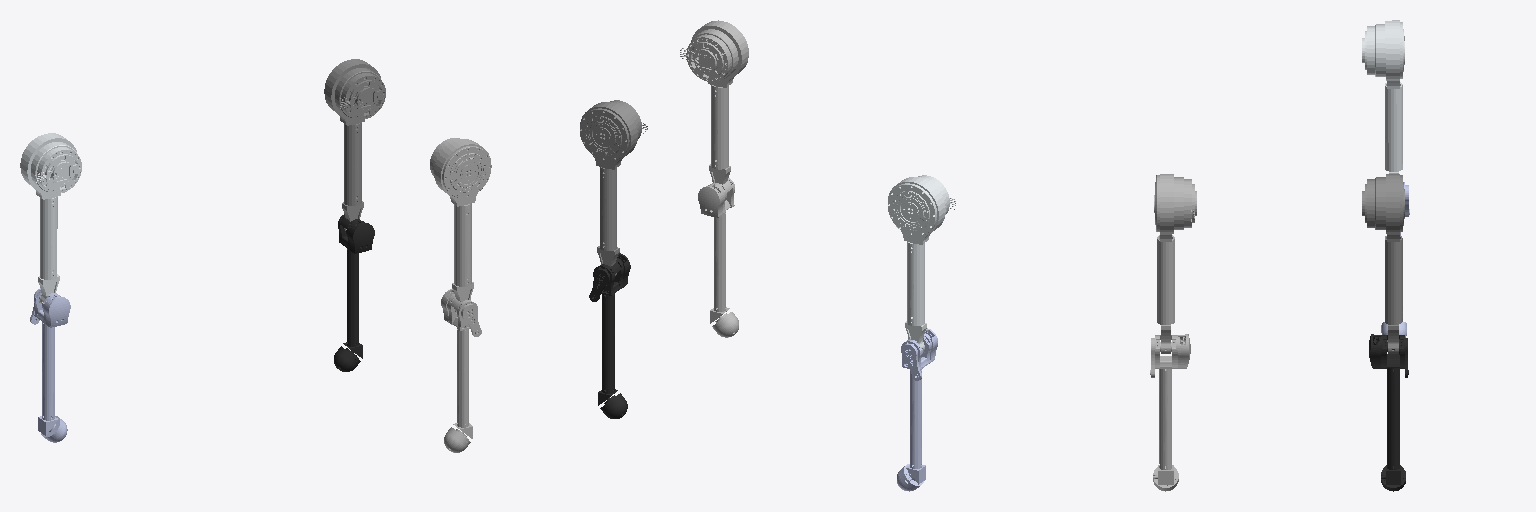
URDF robot description (PONGBOT_Q_V2):
<robot
  name="PONGBOT_Q_V2">
  <link
    name="REAR_BODY">
    <inertial>
      <origin
        xyz="0.1216 0.0026 0.0201"
        rpy="0 0 0" />
      <mass
        value="7.7996" />
      <inertia
        ixx="0.0745"
        ixy="0.0038"
        ixz="-0.0097"
        iyy="0.1354"
        iyz="-0.0014"
        izz="0.1812" />
    </inertial>
    <visual>
      <origin
        xyz="0 0 0"
        rpy="0 0 0" />
      <geometry>
        <mesh
          filename="package://PONGBOT_Q_V2/meshes/REAR_BODY.STL" />
      </geometry>
      <material
        name="">
        <color
          rgba="0.79216 0.81961 0.93333 1" />
      </material>
    </visual>
    <collision>
      <origin
        xyz="0 0 0"
        rpy="0 0 0" />
      <geometry>
        <mesh
          filename="package://PONGBOT_Q_V2/meshes/REAR_BODY.STL" />
      </geometry>
    </collision>
  </link>
  <link
    name="RR_HIP">
    <inertial>
      <origin
        xyz="-0.0009 -0.0001 -0.0002"
        rpy="0 0 0" />
      <mass
        value="1.1163" />
      <inertia
        ixx="0.0011"
        ixy="0"
        ixz="0"
        iyy="0.0012"
        iyz="0"
        izz="0.0012" />
    </inertial>
    <visual>
      <origin
        xyz="0 0 0"
        rpy="0 0 0" />
      <geometry>
        <mesh
          filename="package://PONGBOT_Q_V2/meshes/RR_HIP.STL" />
      </geometry>
      <material
        name="">
        <color
          rgba="0.75294 0.75294 0.75294 1" />
      </material>
    </visual>
    <collision>
      <origin
        xyz="0 0 0"
        rpy="0 0 0" />
      <geometry>
        <mesh
          filename="package://PONGBOT_Q_V2/meshes/RR_HIP.STL" />
      </geometry>
    </collision>
  </link>
  <joint
    name="RR_HIP_JOINT"
    type="continuous">
    <origin
      xyz="0 -0.11502 -0.00031465"
      rpy="9.8608E-32 -1.0675E-30 0" />
    <parent
      link="REAR_BODY" />
    <child
      link="RR_HIP" />
    <axis
      xyz="1 0 0" />
  </joint>
  <link
    name="RR_THIGH">
    <inertial>
      <origin
        xyz="0 0.0163 -0.0263"
        rpy="0 0 0" />
      <mass
        value="1.8748" />
      <inertia
        ixx="0.0112"
        ixy="0"
        ixz="0"
        iyy="0.0117"
        iyz="0.0008"
        izz="0.0017" />
    </inertial>
    <visual>
      <origin
        xyz="0 0 0"
        rpy="0 0 0" />
      <geometry>
        <mesh
          filename="package://PONGBOT_Q_V2/meshes/RR_THIGH.STL" />
      </geometry>
      <material
        name="">
        <color
          rgba="0.6 0.6 0.6 1" />
      </material>
    </visual>
    <collision>
      <origin
        xyz="0 0 0"
        rpy="0 0 0" />
      <geometry>
        <mesh
          filename="package://PONGBOT_Q_V2/meshes/RR_THIGH.STL" />
      </geometry>
    </collision>
  </link>
  <joint
    name="RR_THIGH_JOINT"
    type="continuous">
    <origin
      xyz="0 -0.105 -0.00028723"
      rpy="9.8608E-32 -1.0675E-30 0" />
    <parent
      link="RR_HIP" />
    <child
      link="RR_THIGH" />
    <axis
      xyz="0 1 0" />
  </joint>
  <link
    name="RR_CALF">
    <inertial>
      <origin
        xyz="0.0012 -0.0017 -0.0897"
        rpy="0 0 0" />
      <mass
        value="0.402" />
      <inertia
        ixx="0.0052"
        ixy="0"
        ixz="-0.0002"
        iyy="0.0051"
        iyz="-0.0001"
        izz="0.0002" />
    </inertial>
    <visual>
      <origin
        xyz="0 0 0"
        rpy="0 0 0" />
      <geometry>
        <mesh
          filename="package://PONGBOT_Q_V2/meshes/RR_CALF.STL" />
      </geometry>
      <material
        name="">
        <color
          rgba="0.75294 0.75294 0.75294 1" />
      </material>
    </visual>
    <collision>
      <origin
        xyz="0 0 0"
        rpy="0 0 0" />
      <geometry>
        <mesh
          filename="package://PONGBOT_Q_V2/meshes/RR_CALF.STL" />
      </geometry>
    </collision>
  </link>
  <joint
    name="RR_CALF_JOINT"
    type="continuous">
    <origin
      xyz="0 0.00083432 -0.305"
      rpy="9.8608E-32 -1.0675E-30 0" />
    <parent
      link="RR_THIGH" />
    <child
      link="RR_CALF" />
    <axis
      xyz="0 1 0" />
  </joint>
  <link
    name="RL_HIP">
    <inertial>
      <origin
        xyz="-0.0009 0.0001 0.0002"
        rpy="0 0 0" />
      <mass
        value="1.1163" />
      <inertia
        ixx="0.0011"
        ixy="0"
        ixz="0"
        iyy="0.0012"
        iyz="0"
        izz="0.0012" />
    </inertial>
    <visual>
      <origin
        xyz="0 0 0"
        rpy="0 0 0" />
      <geometry>
        <mesh
          filename="package://PONGBOT_Q_V2/meshes/RL_HIP.STL" />
      </geometry>
      <material
        name="">
        <color
          rgba="0.75294 0.75294 0.75294 1" />
      </material>
    </visual>
    <collision>
      <origin
        xyz="0 0 0"
        rpy="0 0 0" />
      <geometry>
        <mesh
          filename="package://PONGBOT_Q_V2/meshes/RL_HIP.STL" />
      </geometry>
    </collision>
  </link>
  <joint
    name="RL_HIP_JOINT"
    type="continuous">
    <origin
      xyz="0 0.11502 -0.00031465"
      rpy="9.8608E-32 -1.0675E-30 0" />
    <parent
      link="REAR_BODY" />
    <child
      link="RL_HIP" />
    <axis
      xyz="1 0 0" />
  </joint>
  <link
    name="RL_THIGH">
    <inertial>
      <origin
        xyz="0 -0.0161 -0.0264"
        rpy="0 0 0" />
      <mass
        value="1.8748" />
      <inertia
        ixx="0.0112"
        ixy="0"
        ixz="0"
        iyy="0.0117"
        iyz="-0.0008"
        izz="0.0017" />
    </inertial>
    <visual>
      <origin
        xyz="0 0 0"
        rpy="0 0 0" />
      <geometry>
        <mesh
          filename="package://PONGBOT_Q_V2/meshes/RL_THIGH.STL" />
      </geometry>
      <material
        name="">
        <color
          rgba="0.89804 0.91765 0.92941 1" />
      </material>
    </visual>
    <collision>
      <origin
        xyz="0 0 0"
        rpy="0 0 0" />
      <geometry>
        <mesh
          filename="package://PONGBOT_Q_V2/meshes/RL_THIGH.STL" />
      </geometry>
    </collision>
  </link>
  <joint
    name="RL_THIGH_JOINT"
    type="continuous">
    <origin
      xyz="0 0.105 0.00028723"
      rpy="9.8608E-32 -1.0675E-30 0" />
    <parent
      link="RL_HIP" />
    <child
      link="RL_THIGH" />
    <axis
      xyz="0 1 0" />
  </joint>
  <link
    name="RL_CALF">
    <inertial>
      <origin
        xyz="0.0008 0.0021 -0.0897"
        rpy="0 0 0" />
      <mass
        value="0.402" />
      <inertia
        ixx="0.0052"
        ixy="0"
        ixz="-0.0002"
        iyy="0.0051"
        iyz="0"
        izz="0.0002" />
    </inertial>
    <visual>
      <origin
        xyz="0 0 0"
        rpy="0 0 0" />
      <geometry>
        <mesh
          filename="package://PONGBOT_Q_V2/meshes/RL_CALF.STL" />
      </geometry>
      <material
        name="">
        <color
          rgba="0.79216 0.81961 0.93333 1" />
      </material>
    </visual>
    <collision>
      <origin
        xyz="0 0 0"
        rpy="0 0 0" />
      <geometry>
        <mesh
          filename="package://PONGBOT_Q_V2/meshes/RL_CALF.STL" />
      </geometry>
    </collision>
  </link>
  <joint
    name="RL_CALF_JOINT"
    type="continuous">
    <origin
      xyz="0 0.00083432 -0.305"
      rpy="9.8608E-32 -1.0675E-30 0" />
    <parent
      link="RL_THIGH" />
    <child
      link="RL_CALF" />
    <axis
      xyz="0 1 0" />
  </joint>
  <link
    name="FRONT_BODY">
    <inertial>
      <origin
        xyz="0.2266 -0.0002 0.0015"
        rpy="0 0 0" />
      <mass
        value="8.9472" />
      <inertia
        ixx="0.0895"
        ixy="0.0002"
        ixz="-0.0077"
        iyy="0.1228"
        iyz="0"
        izz="0.1674" />
    </inertial>
    <visual>
      <origin
        xyz="0 0 0"
        rpy="0 0 0" />
      <geometry>
        <mesh
          filename="package://PONGBOT_Q_V2/meshes/FRONT_BODY.STL" />
      </geometry>
      <material
        name="">
        <color
          rgba="0.19608 0.19608 0.19608 1" />
      </material>
    </visual>
    <collision>
      <origin
        xyz="0 0 0"
        rpy="0 0 0" />
      <geometry>
        <mesh
          filename="package://PONGBOT_Q_V2/meshes/FRONT_BODY.STL" />
      </geometry>
    </collision>
  </link>
  <joint
    name="WAIST_JOINT"
    type="continuous">
    <origin
      xyz="0.35 0 0.035238"
      rpy="9.8608E-32 -1.0675E-30 3.9443E-31" />
    <parent
      link="REAR_BODY" />
    <child
      link="FRONT_BODY" />
    <axis
      xyz="0 0 1" />
  </joint>
  <link
    name="FR_HIP">
    <inertial>
      <origin
        xyz="0.0009 -0.0001 0.0002"
        rpy="0 0 0" />
      <mass
        value="1.1163" />
      <inertia
        ixx="0.0011"
        ixy="0"
        ixz="0"
        iyy="0.0012"
        iyz="0"
        izz="0.0012" />
    </inertial>
    <visual>
      <origin
        xyz="0 0 0"
        rpy="0 0 0" />
      <geometry>
        <mesh
          filename="package://PONGBOT_Q_V2/meshes/FR_HIP.STL" />
      </geometry>
      <material
        name="">
        <color
          rgba="0.75294 0.75294 0.75294 1" />
      </material>
    </visual>
    <collision>
      <origin
        xyz="0 0 0"
        rpy="0 0 0" />
      <geometry>
        <mesh
          filename="package://PONGBOT_Q_V2/meshes/FR_HIP.STL" />
      </geometry>
    </collision>
  </link>
  <joint
    name="FR_HIP_JOINT"
    type="continuous">
    <origin
      xyz="0.35 -0.11502 -0.03555"
      rpy="9.8608E-32 -1.0675E-30 -3.9443E-31" />
    <parent
      link="FRONT_BODY" />
    <child
      link="FR_HIP" />
    <axis
      xyz="1 0 0" />
  </joint>
  <link
    name="FR_THIGH">
    <inertial>
      <origin
        xyz="0 0.0162 -0.0264"
        rpy="0 0 0" />
      <mass
        value="1.8748" />
      <inertia
        ixx="0.0112"
        ixy="0"
        ixz="0"
        iyy="0.0117"
        iyz="0.0008"
        izz="0.0017" />
    </inertial>
    <visual>
      <origin
        xyz="0 0 0"
        rpy="0 0 0" />
      <geometry>
        <mesh
          filename="package://PONGBOT_Q_V2/meshes/FR_THIGH.STL" />
      </geometry>
      <material
        name="">
        <color
          rgba="0.75294 0.75294 0.75294 1" />
      </material>
    </visual>
    <collision>
      <origin
        xyz="0 0 0"
        rpy="0 0 0" />
      <geometry>
        <mesh
          filename="package://PONGBOT_Q_V2/meshes/FR_THIGH.STL" />
      </geometry>
    </collision>
  </link>
  <joint
    name="FR_THIGH_JOINT"
    type="continuous">
    <origin
      xyz="0 -0.105 0"
      rpy="9.8608E-32 -1.0675E-30 0" />
    <parent
      link="FR_HIP" />
    <child
      link="FR_THIGH" />
    <axis
      xyz="0 1 0" />
  </joint>
  <link
    name="FR_CALF">
    <inertial>
      <origin
        xyz="-0.0008 -0.0019 -0.0897"
        rpy="0 0 0" />
      <mass
        value="0.402" />
      <inertia
        ixx="0.0052"
        ixy="0"
        ixz="0.0002"
        iyy="0.0051"
        iyz="0"
        izz="0.0002" />
    </inertial>
    <visual>
      <origin
        xyz="0 0 0"
        rpy="0 0 0" />
      <geometry>
        <mesh
          filename="package://PONGBOT_Q_V2/meshes/FR_CALF.STL" />
      </geometry>
      <material
        name="">
        <color
          rgba="0.75294 0.75294 0.75294 1" />
      </material>
    </visual>
    <collision>
      <origin
        xyz="0 0 0"
        rpy="0 0 0" />
      <geometry>
        <mesh
          filename="package://PONGBOT_Q_V2/meshes/FR_CALF.STL" />
      </geometry>
    </collision>
  </link>
  <joint
    name="FR_CALF_JOINT"
    type="continuous">
    <origin
      xyz="0 0 -0.305"
      rpy="9.8608E-32 -1.0675E-30 0" />
    <parent
      link="FR_THIGH" />
    <child
      link="FR_CALF" />
    <axis
      xyz="0 1 0" />
  </joint>
  <link
    name="FL_HIP">
    <inertial>
      <origin
        xyz="0.0009 0.0001 -0.0002"
        rpy="0 0 0" />
      <mass
        value="1.1163" />
      <inertia
        ixx="0.0011"
        ixy="0"
        ixz="0"
        iyy="0.0012"
        iyz="0"
        izz="0.0012" />
    </inertial>
    <visual>
      <origin
        xyz="0 0 0"
        rpy="0 0 0" />
      <geometry>
        <mesh
          filename="package://PONGBOT_Q_V2/meshes/FL_HIP.STL" />
      </geometry>
      <material
        name="">
        <color
          rgba="0.75294 0.75294 0.75294 1" />
      </material>
    </visual>
    <collision>
      <origin
        xyz="0 0 0"
        rpy="0 0 0" />
      <geometry>
        <mesh
          filename="package://PONGBOT_Q_V2/meshes/FL_HIP.STL" />
      </geometry>
    </collision>
  </link>
  <joint
    name="FL_HIP_JOINT"
    type="continuous">
    <origin
      xyz="0.35 0.11502 -0.03555"
      rpy="0 -1.0675E-30 -3.9443E-31" />
    <parent
      link="FRONT_BODY" />
    <child
      link="FL_HIP" />
    <axis
      xyz="1 0 0" />
  </joint>
  <link
    name="FL_THIGH">
    <inertial>
      <origin
        xyz="0 -0.0162 -0.0264"
        rpy="0 0 0" />
      <mass
        value="1.8748" />
      <inertia
        ixx="0.0112"
        ixy="0"
        ixz="0"
        iyy="0.0117"
        iyz="-0.0008"
        izz="0.0017" />
    </inertial>
    <visual>
      <origin
        xyz="0 0 0"
        rpy="0 0 0" />
      <geometry>
        <mesh
          filename="package://PONGBOT_Q_V2/meshes/FL_THIGH.STL" />
      </geometry>
      <material
        name="">
        <color
          rgba="0.6 0.6 0.6 1" />
      </material>
    </visual>
    <collision>
      <origin
        xyz="0 0 0"
        rpy="0 0 0" />
      <geometry>
        <mesh
          filename="package://PONGBOT_Q_V2/meshes/FL_THIGH.STL" />
      </geometry>
    </collision>
  </link>
  <joint
    name="FL_THIGH_JOINT"
    type="continuous">
    <origin
      xyz="0 0.105 0"
      rpy="9.8608E-32 -1.0675E-30 0" />
    <parent
      link="FL_HIP" />
    <child
      link="FL_THIGH" />
    <axis
      xyz="0 1 0" />
  </joint>
  <link
    name="FL_CALF">
    <inertial>
      <origin
        xyz="-0.0012 0.0019 -0.0897"
        rpy="0 0 0" />
      <mass
        value="0.402" />
      <inertia
        ixx="0.0052"
        ixy="0"
        ixz="0.0002"
        iyy="0.0051"
        iyz="0"
        izz="0.0002" />
    </inertial>
    <visual>
      <origin
        xyz="0 0 0"
        rpy="0 0 0" />
      <geometry>
        <mesh
          filename="package://PONGBOT_Q_V2/meshes/FL_CALF.STL" />
      </geometry>
      <material
        name="">
        <color
          rgba="0.22353 0.22353 0.22353 1" />
      </material>
    </visual>
    <collision>
      <origin
        xyz="0 0 0"
        rpy="0 0 0" />
      <geometry>
        <mesh
          filename="package://PONGBOT_Q_V2/meshes/FL_CALF.STL" />
      </geometry>
    </collision>
  </link>
  <joint
    name="FL_CALF_JOINT"
    type="continuous">
    <origin
      xyz="0 0 -0.305"
      rpy="9.8608E-32 -1.0675E-30 0" />
    <parent
      link="FL_THIGH" />
    <child
      link="FL_CALF" />
    <axis
      xyz="0 1 0" />
  </joint>
</robot>

--- What the picture shows (computed from the rendered views, not written in the file) ---
3 views of the same robot in one strip: view 1: azimuth 30°, elevation 25°; view 2: azimuth 150°, elevation 25°; view 3: azimuth 270°, elevation 25° (orthographic).
Model PONGBOT_Q_V2 with 14 links and 13 joints (13 continuous), rooted at REAR_BODY, posed every joint at zero.
Links seen in each view (by area): view 1: FR_THIGH, FL_THIGH, RL_THIGH, RL_CALF, FR_CALF, FL_CALF; view 2: RL_THIGH, FR_THIGH, FL_THIGH, FL_CALF, FR_CALF, RL_CALF; view 3: FL_THIGH, FR_THIGH, RL_THIGH, FR_CALF, FL_CALF.
Link boxes in pixels (x1,y1,x2,y2): FR_THIGH: (430,138,491,311); FL_THIGH: (324,59,385,230); RL_THIGH: (20,133,81,304); RL_CALF: (30,288,70,442); FR_CALF: (441,289,481,452); FL_CALF: (334,214,374,371); RL_THIGH: (888,175,955,350); FR_THIGH: (680,20,748,193); FL_THIGH: (580,100,647,275); FL_CALF: (589,253,630,418); FR_CALF: (698,178,738,337); RL_CALF: (897,328,937,491); FL_THIGH: (1362,174,1404,353); FR_THIGH: (1154,174,1196,353); RL_THIGH: (1362,20,1404,173); FR_CALF: (1150,334,1190,491); FL_CALF: (1369,334,1408,491).
Bounding box of the posed robot: 0.8226 × 0.501 × 0.6769 m (x, y, z).
Meshes: 14 distinct files referenced, 6 mesh visuals loaded (6 binary STL); not drawn: 8 (reference not matched to a file when rendering).